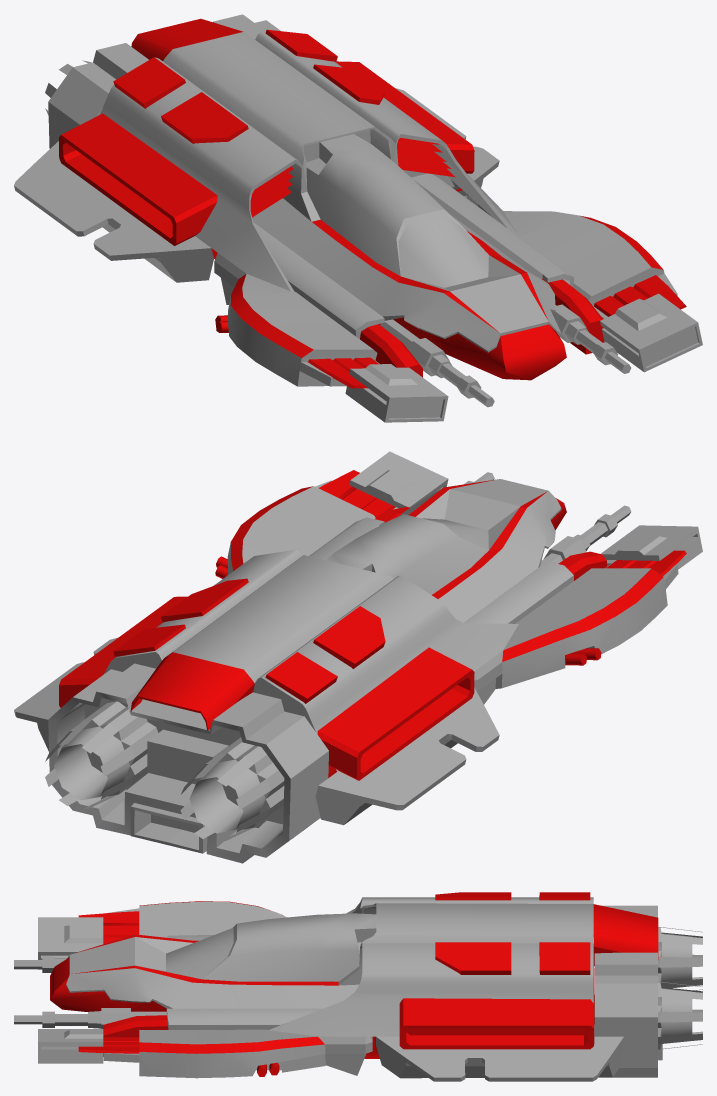
File: Zaiten3.fbx
3 views of the same model, one above another, from view 1: azimuth 30°, elevation 25°; view 2: azimuth 150°, elevation 25°; view 3: azimuth 270°, elevation 25° (orthographic). The views are drawn at different scales.
Parts seen in each view (by area): view 1: zaiten3_diffuse, zaiten3_color; view 2: zaiten3_diffuse, zaiten3_color; view 3: zaiten3_diffuse, zaiten3_color.
Part boxes in pixels (x1,y1,x2,y2): zaiten3_diffuse: (14, 14, 702, 422); zaiten3_color: (59, 18, 686, 388); zaiten3_diffuse: (14, 451, 702, 863); zaiten3_color: (59, 470, 686, 780); zaiten3_diffuse: (14, 897, 702, 1081); zaiten3_color: (50, 892, 658, 1076).
Size of the model in its own units: 4.67 by 1.8 by 8.64.
